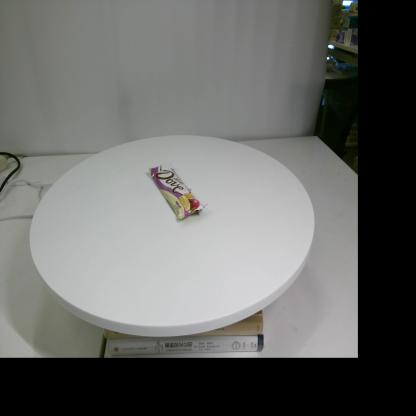Chocolate: (150, 162, 207, 219)
